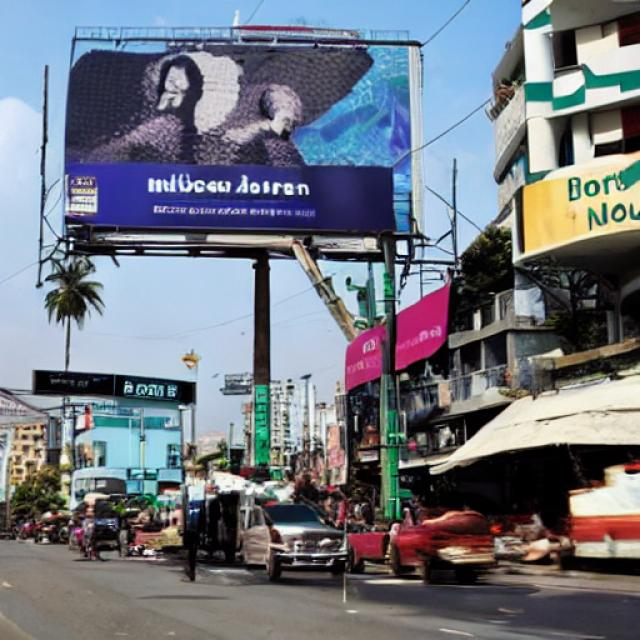Billboard: (63, 37, 426, 251)
